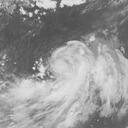cyclone: (12, 38, 124, 126)
